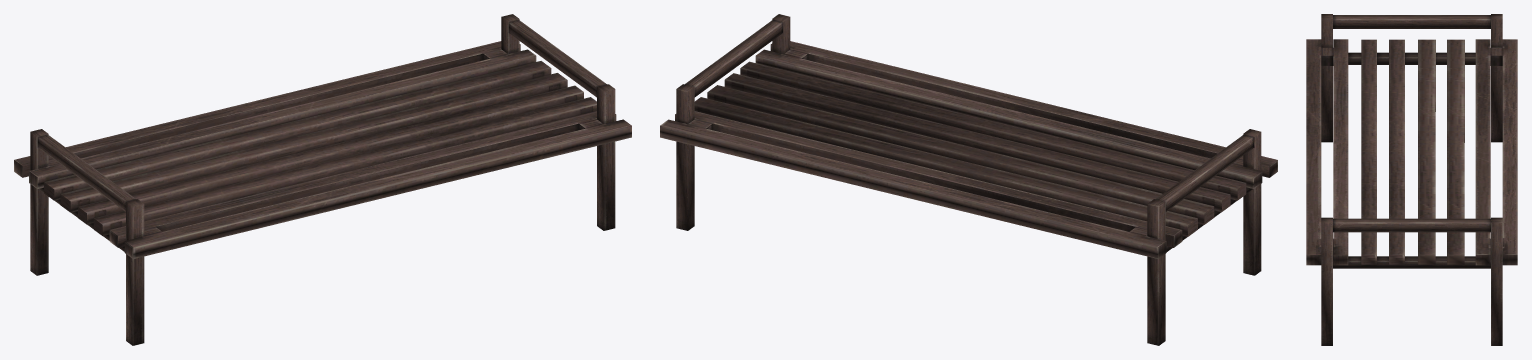
Rendered from rack_shoes.dae.
The picture shows the model from 3 angles, left to right: view 1: azimuth 30°, elevation 25°; view 2: azimuth 150°, elevation 25°; view 3: azimuth 270°, elevation 25°; orthographic projection. The views are drawn at different scales.
Visible parts, largest first — view 1: rack_shoes; view 2: rack_shoes; view 3: rack_shoes.
Part boxes in pixels (x1,y1,x2,y2): rack_shoes: (14, 14, 631, 345); rack_shoes: (660, 14, 1277, 345); rack_shoes: (1306, 14, 1517, 345).
Bounding box in the file's own units: 82.85 × 22.11 × 34.34.
